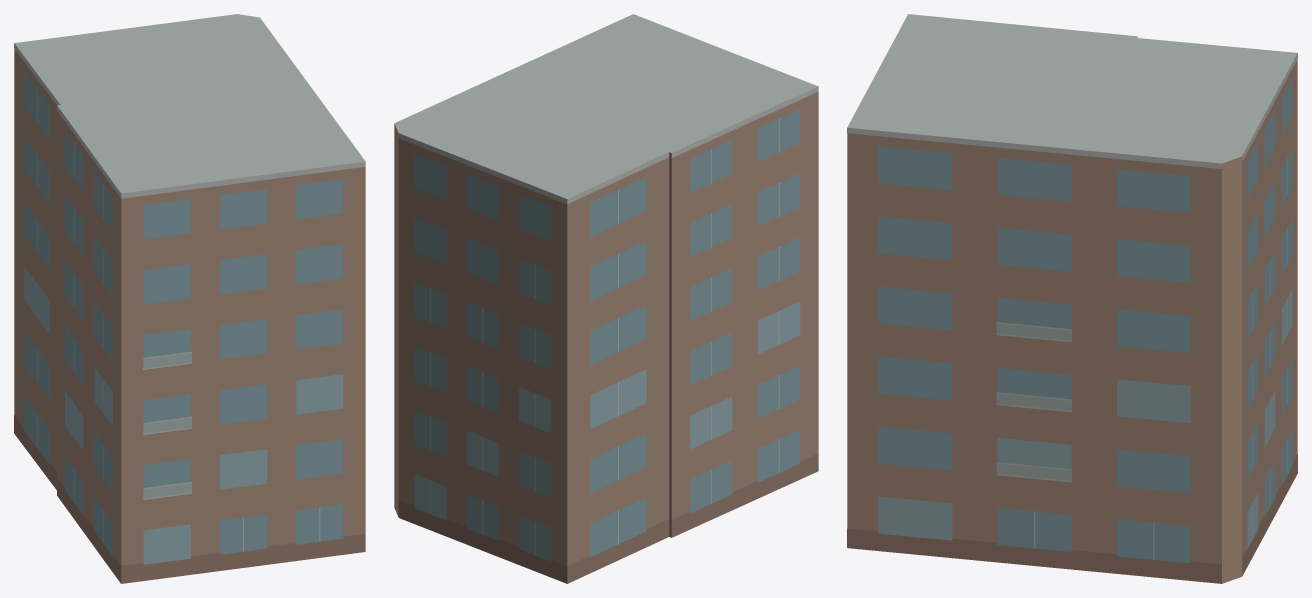
The model's file is survey-upis-32741545.glb.
3 views of the same model, side by side, from view 1: azimuth 30°, elevation 25°; view 2: azimuth 150°, elevation 25°; view 3: azimuth 270°, elevation 25° (orthographic). The views are drawn at different scales.
Visible parts, largest first — view 1: survey-upis-32741545.tmp; view 2: survey-upis-32741545.tmp; view 3: survey-upis-32741545.tmp.
Part boxes in pixels (box(x1,y1,x2,y2)): survey-upis-32741545.tmp: box(14, 14, 365, 583); survey-upis-32741545.tmp: box(394, 14, 818, 583); survey-upis-32741545.tmp: box(847, 14, 1297, 583).
Size of the model in its own units: 13.97 by 18.3 by 17.79.
